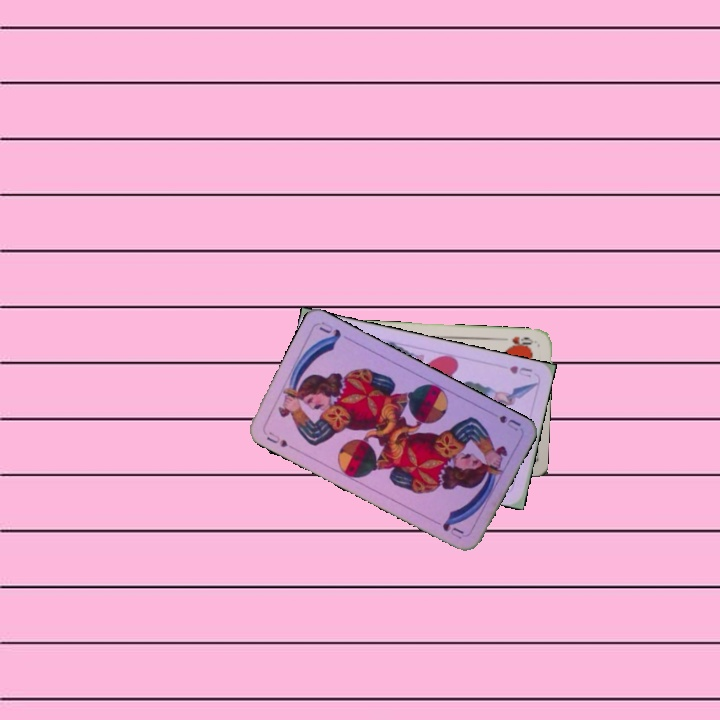HO: (505, 333, 537, 350)
HU: (506, 361, 535, 380)
SU: (485, 407, 523, 434), (262, 427, 298, 453)
